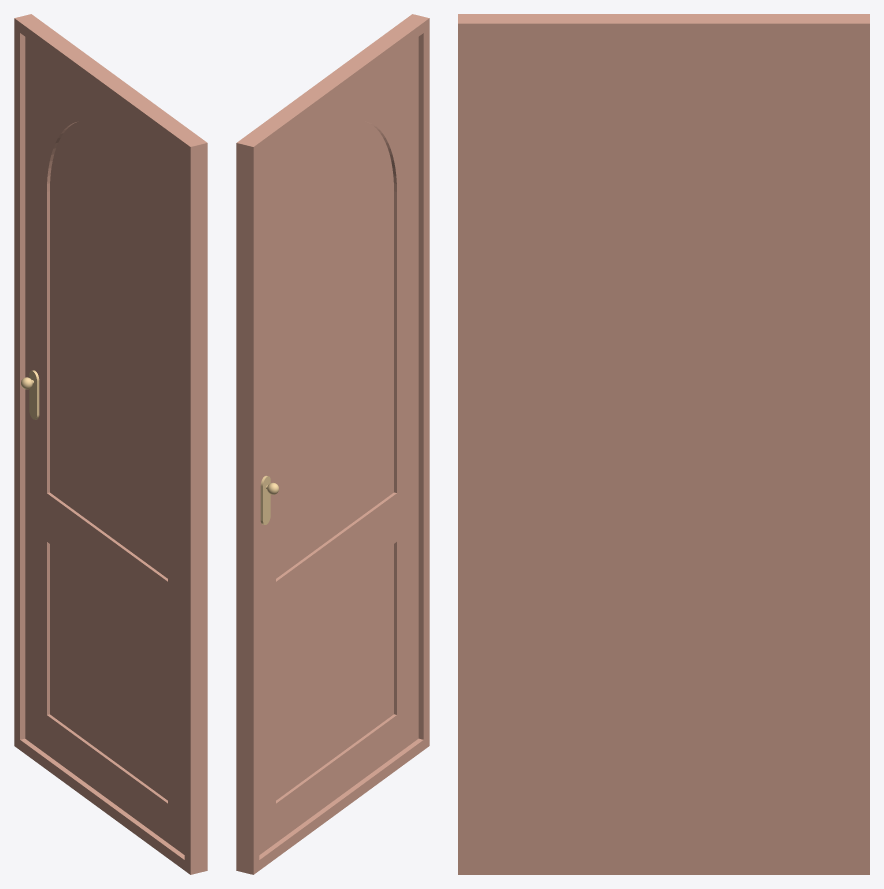
Rendered from Door.fbx.
3 views of the same model, side by side, from view 1: azimuth 30°, elevation 25°; view 2: azimuth 150°, elevation 25°; view 3: azimuth 270°, elevation 25° (orthographic). The views are drawn at different scales.
Visible parts, largest first — view 1: Door.001, Cylinder.007; view 2: Door.001, Cylinder.007; view 3: Door.001.
Part boxes in pixels (x1=…): Door.001: x1=14, y1=14, x2=207, y2=874; Cylinder.007: x1=21, y1=370, x2=39, y2=419; Door.001: x1=236, y1=14, x2=429, y2=874; Cylinder.007: x1=260, y1=475, x2=278, y2=524; Door.001: x1=458, y1=14, x2=869, y2=874.
Bounding box in the file's own units: 258 × 6915 × 3032.
